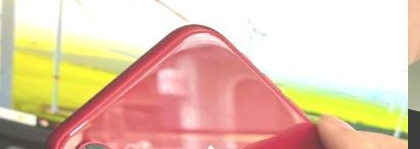scratch: (48, 135, 73, 149)
